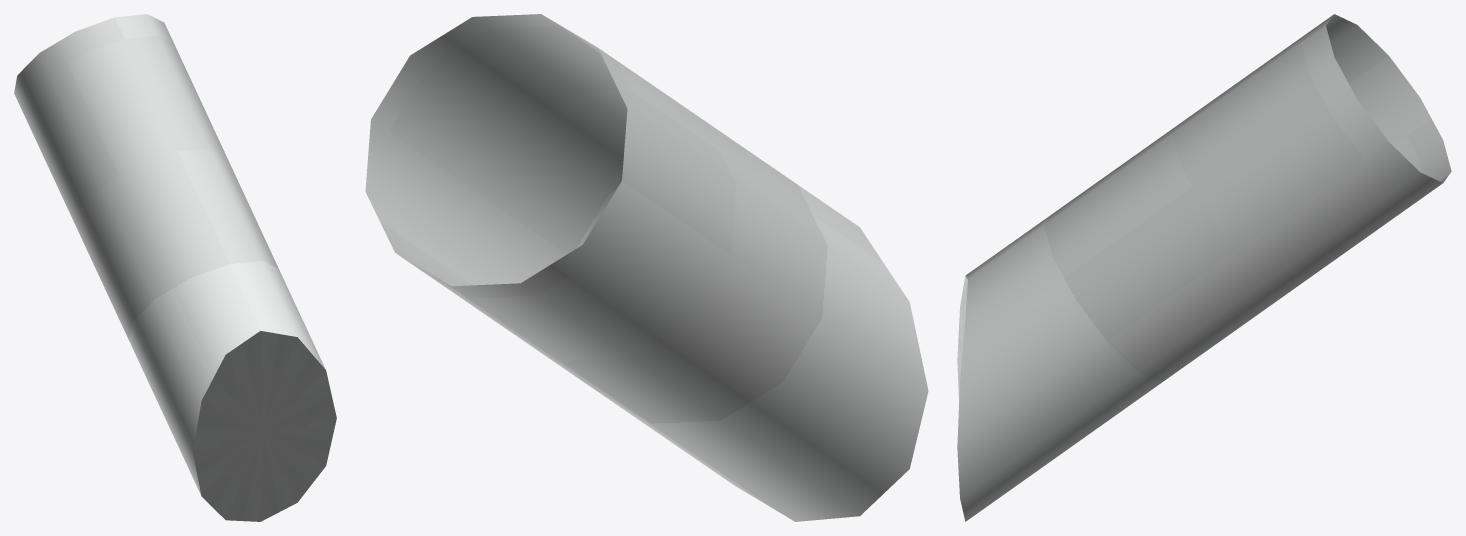
The model's file is luminairearm_truss10ftdouble_c1.obj.
3 views of the same model, side by side, from view 1: azimuth 30°, elevation 25°; view 2: azimuth 150°, elevation 25°; view 3: azimuth 270°, elevation 25° (orthographic). The views are drawn at different scales.
Visible parts, largest first — view 1: luminairearm_truss10ftdouble_c1; view 2: luminairearm_truss10ftdouble_c1; view 3: luminairearm_truss10ftdouble_c1.
Boxes of the visible parts, <box> form: luminairearm_truss10ftdouble_c1: <box>14,14,336,521</box>; luminairearm_truss10ftdouble_c1: <box>365,14,928,521</box>; luminairearm_truss10ftdouble_c1: <box>957,14,1451,521</box>.
Bounding box in the file's own units: 0.1562 × 0.4129 × 0.3787.
